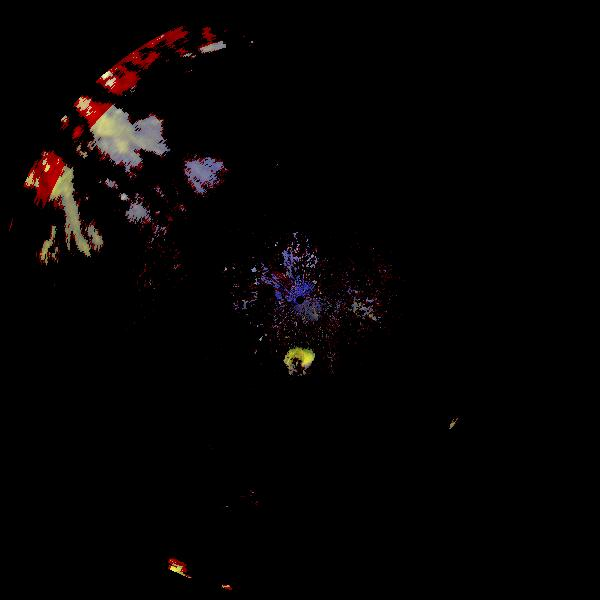roost: (272, 343, 323, 394), (443, 410, 491, 458)
